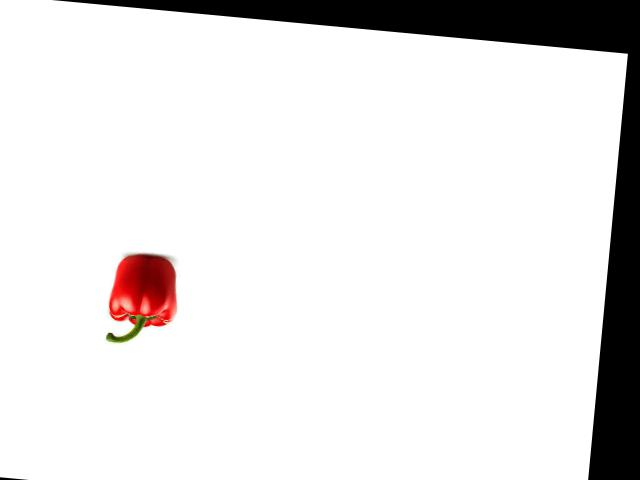bell_pepper: (103, 251, 179, 348)
